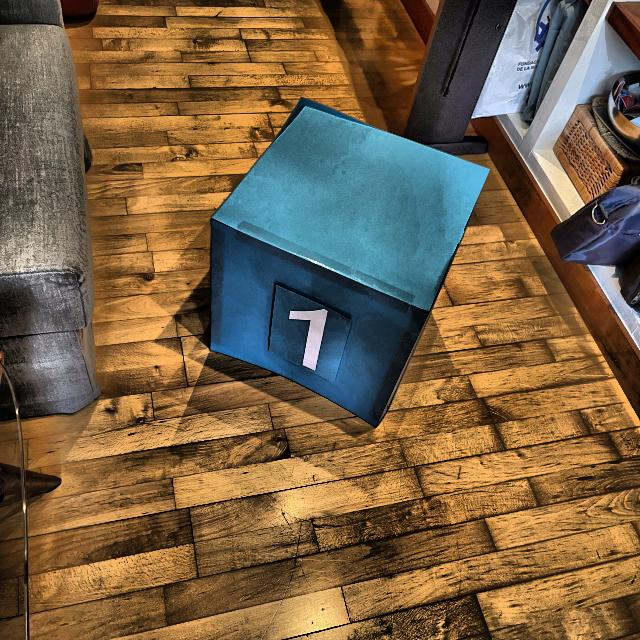blue box: (211, 90, 494, 434)
one: (283, 300, 331, 375)
